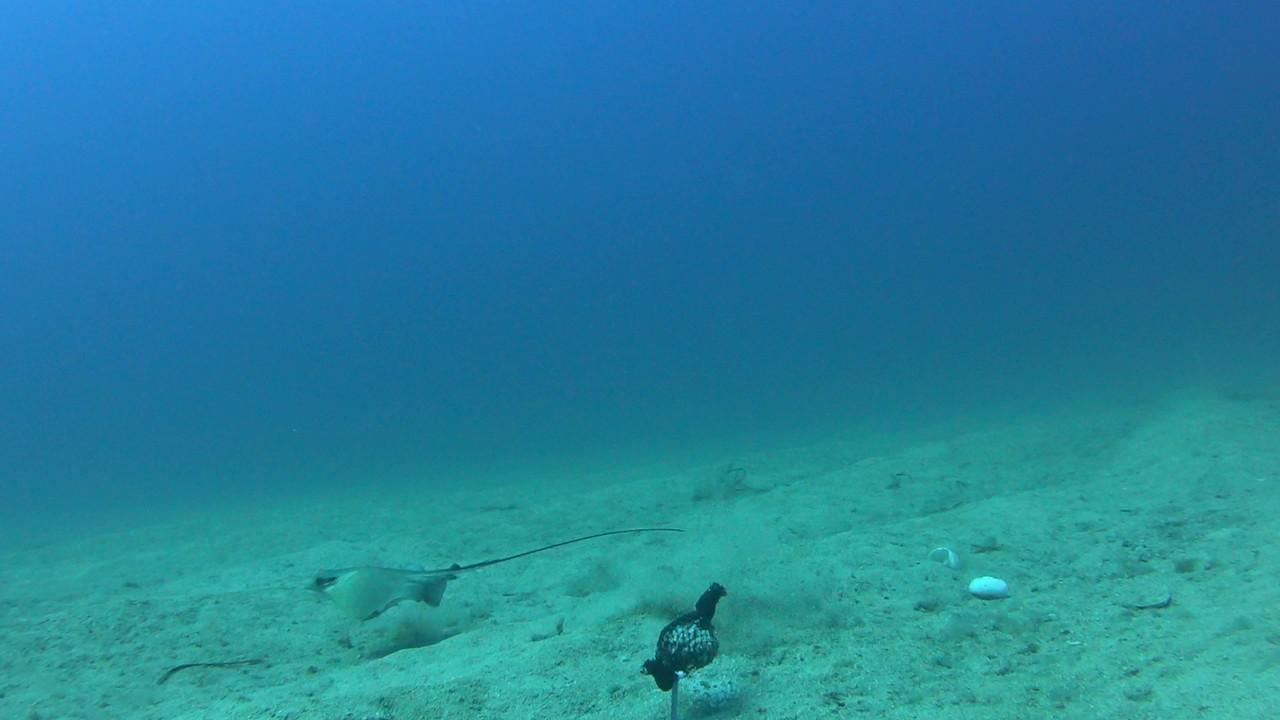myliobatis: (281, 518, 710, 623)
